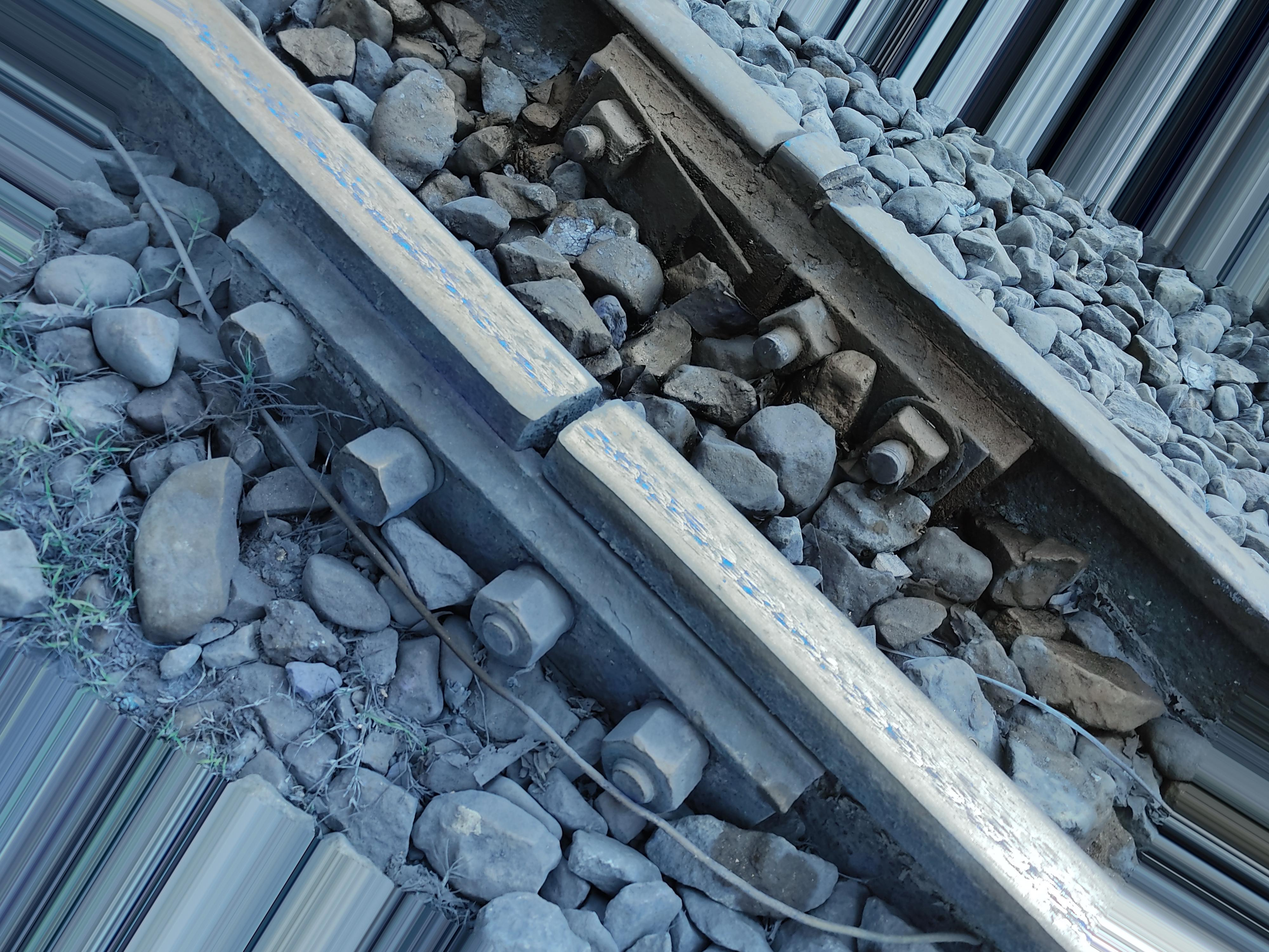tracks_fault: (696, 42, 1076, 419)
